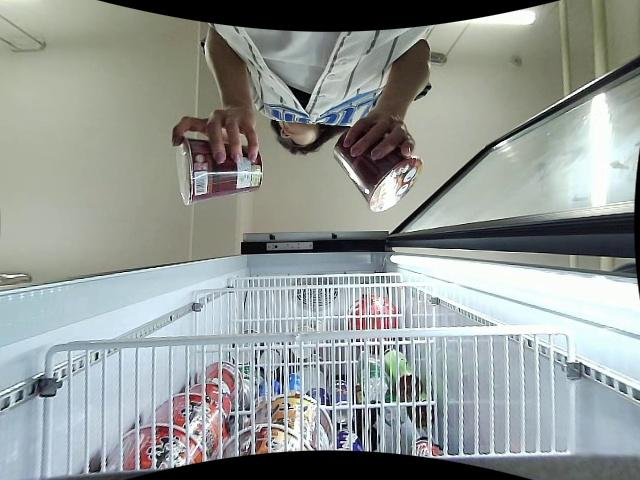00_hand: (171, 103, 261, 165), (343, 111, 417, 163)
06_nuguri_S: (333, 129, 421, 213), (179, 136, 264, 205)
